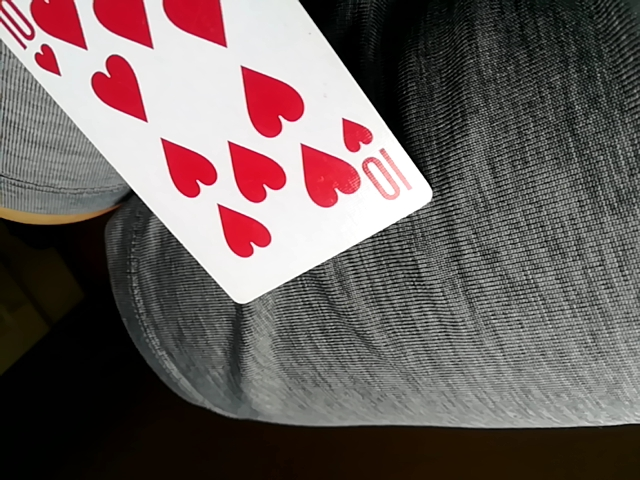hx 10: (8, 1, 438, 303)
